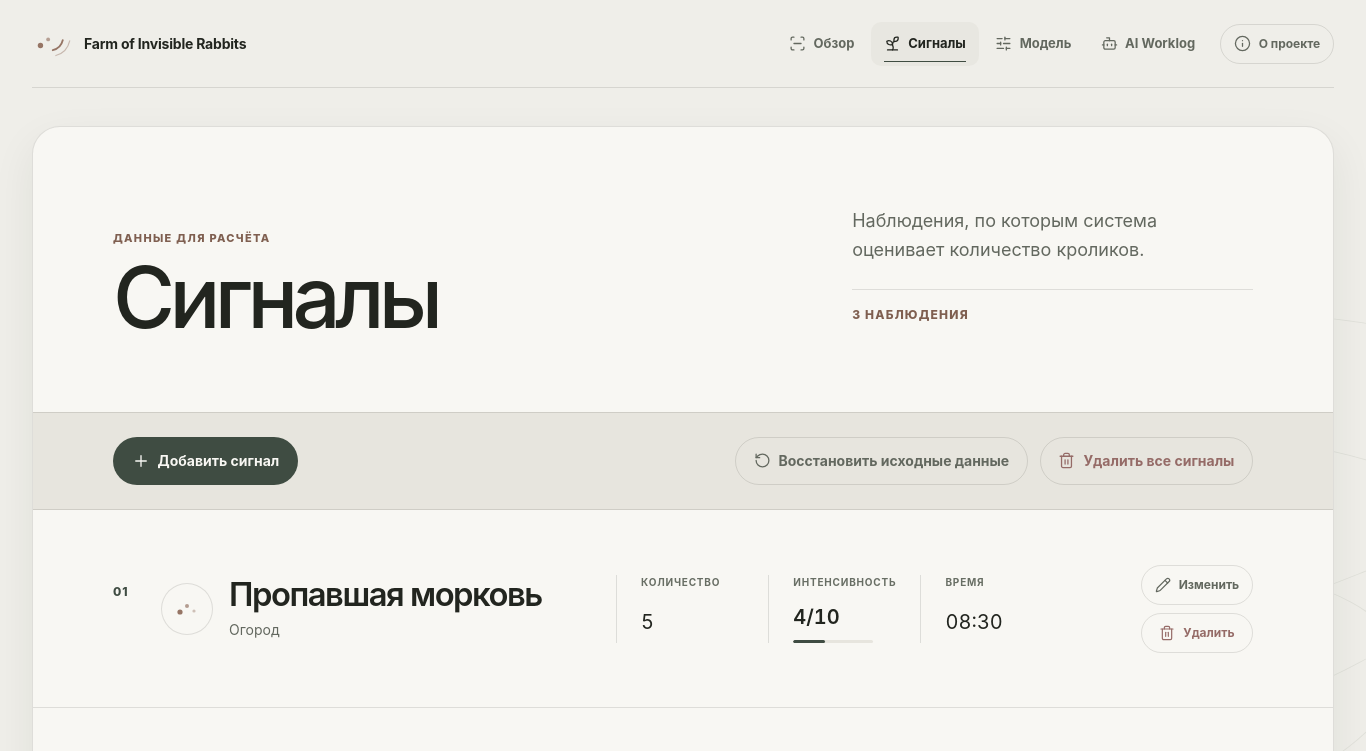
Test: SignalsSection › требует confirmation для delete all и переводит весь Overview в empty state
Click the button "Удалить все сигналы" at (1146, 461), box [1040,437,1253,485]
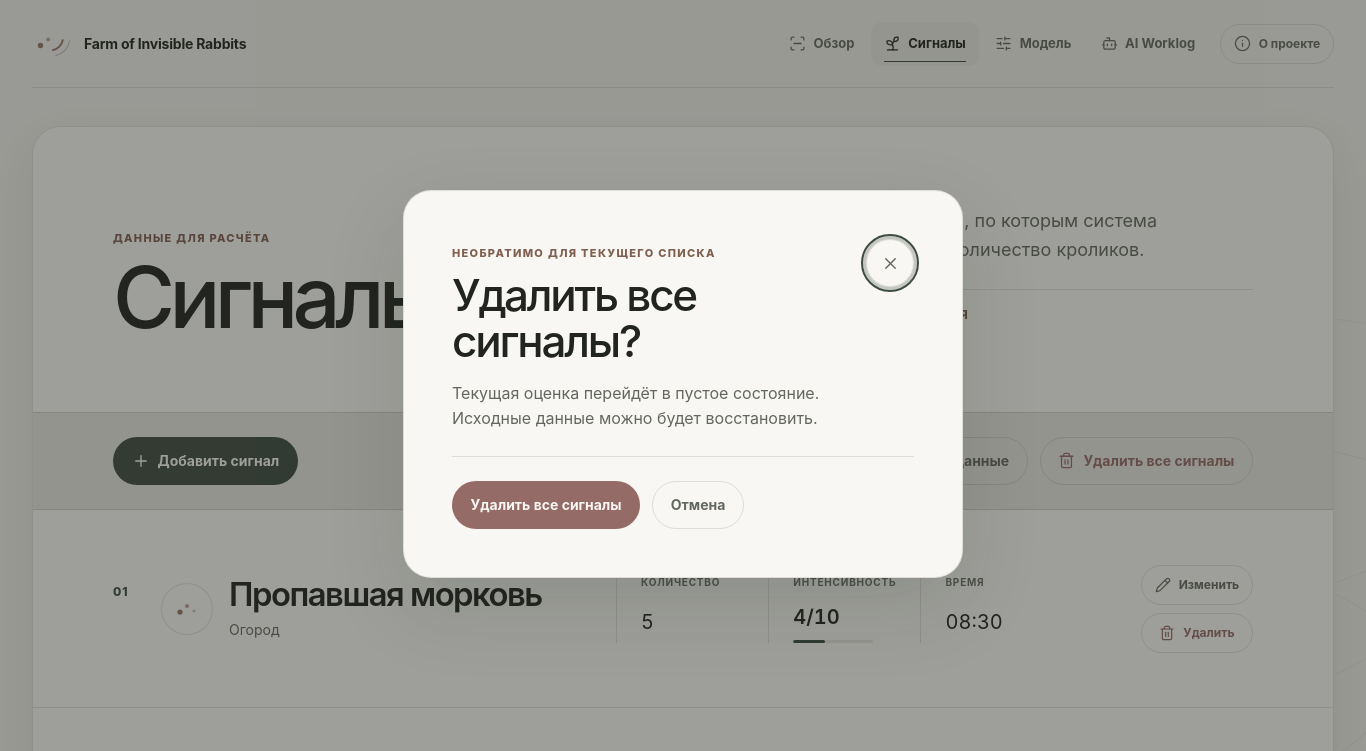
Click the button "Отмена" at (698, 505), box [652,481,744,529]
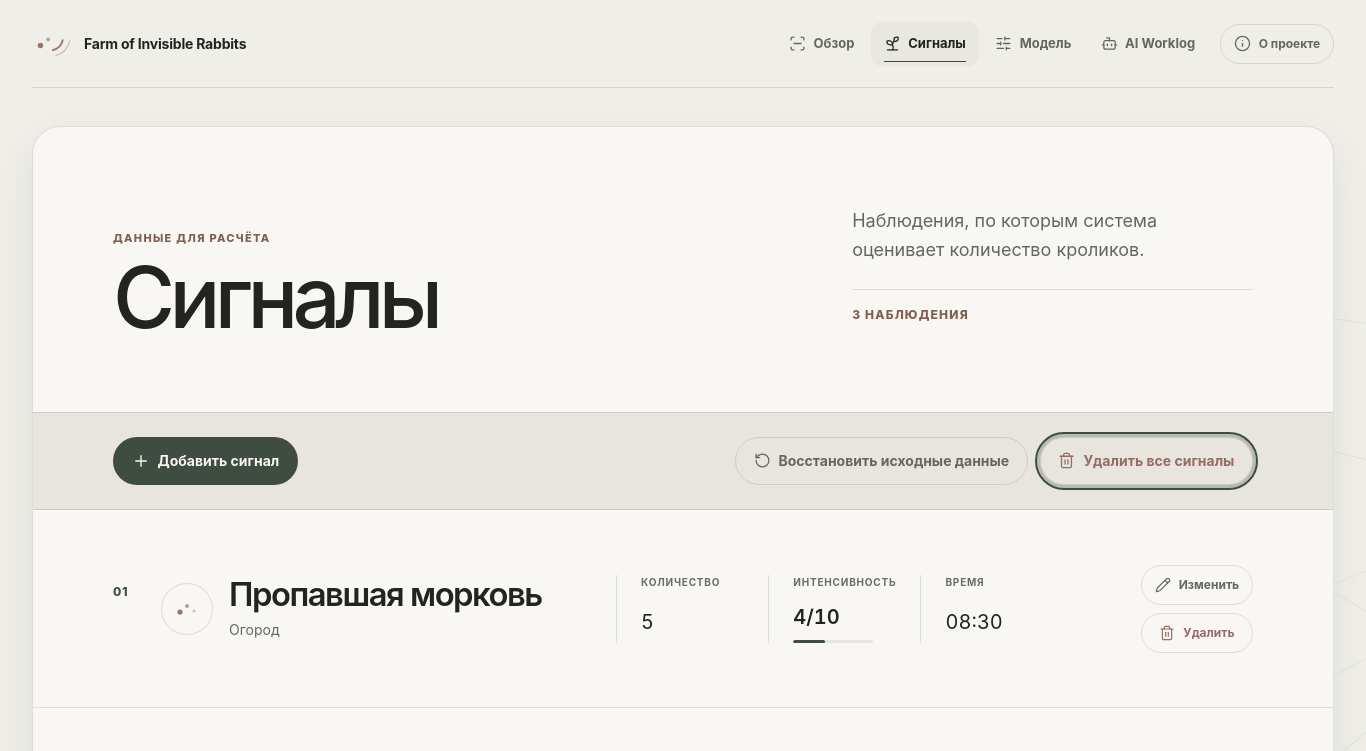
Check: the text "3 наблюдения" is shown, box [852,289,1253,324]
Check: the dialog "Удалить все сигналы?" is not shown
Click the button "Удалить все сигналы" at (1146, 461), box [1040,437,1253,485]
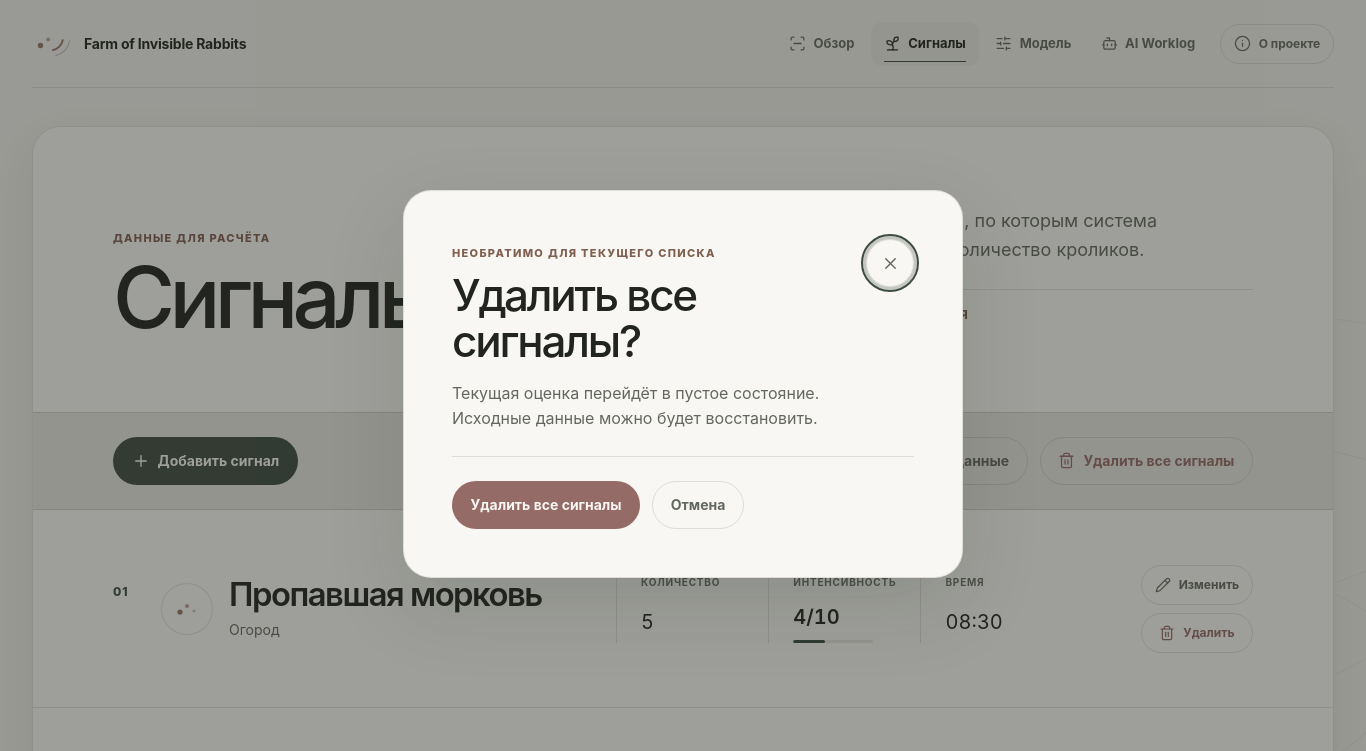
Click the button "Удалить все сигналы" at (546, 505), box [452,481,640,529]
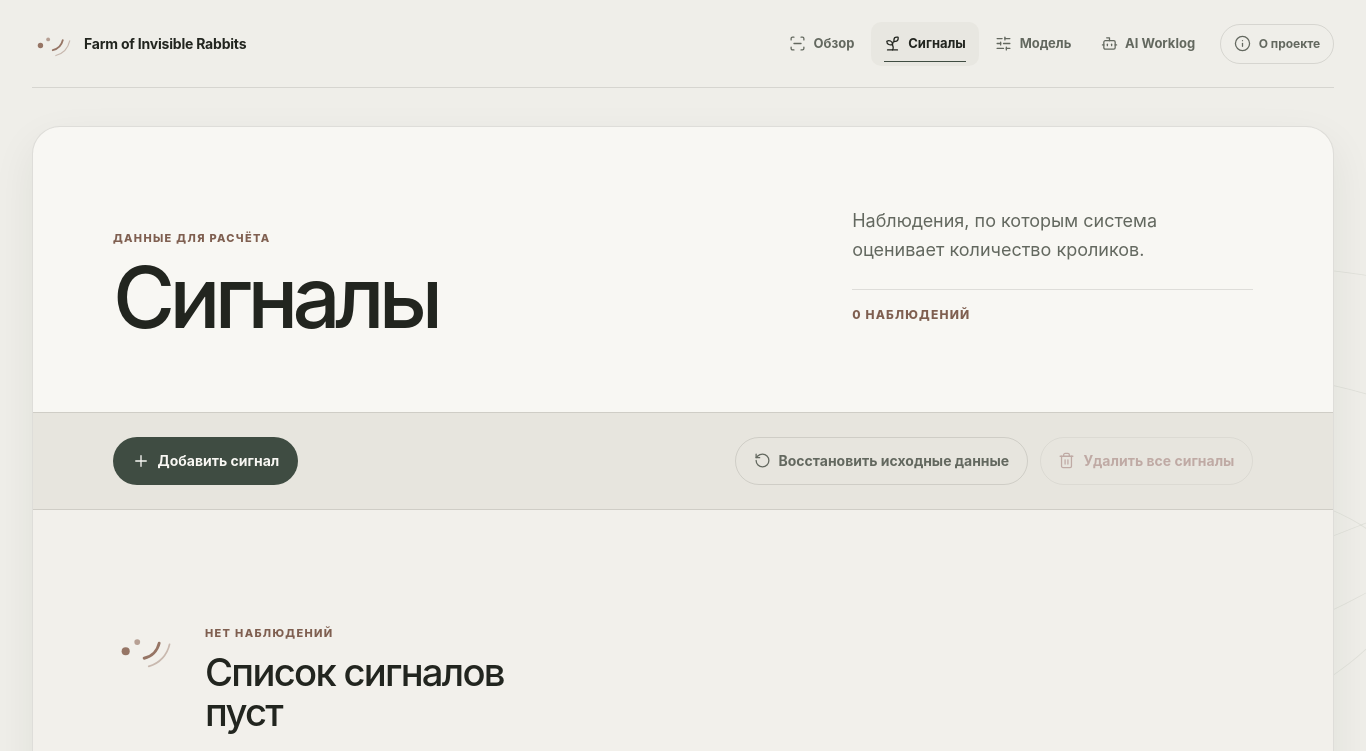
Check: the heading "Список сигналов пуст" is shown, box [205,653,550,733]
Click the link "Обзор" at (822, 44), box [777,22,867,66]
(page scrolled)
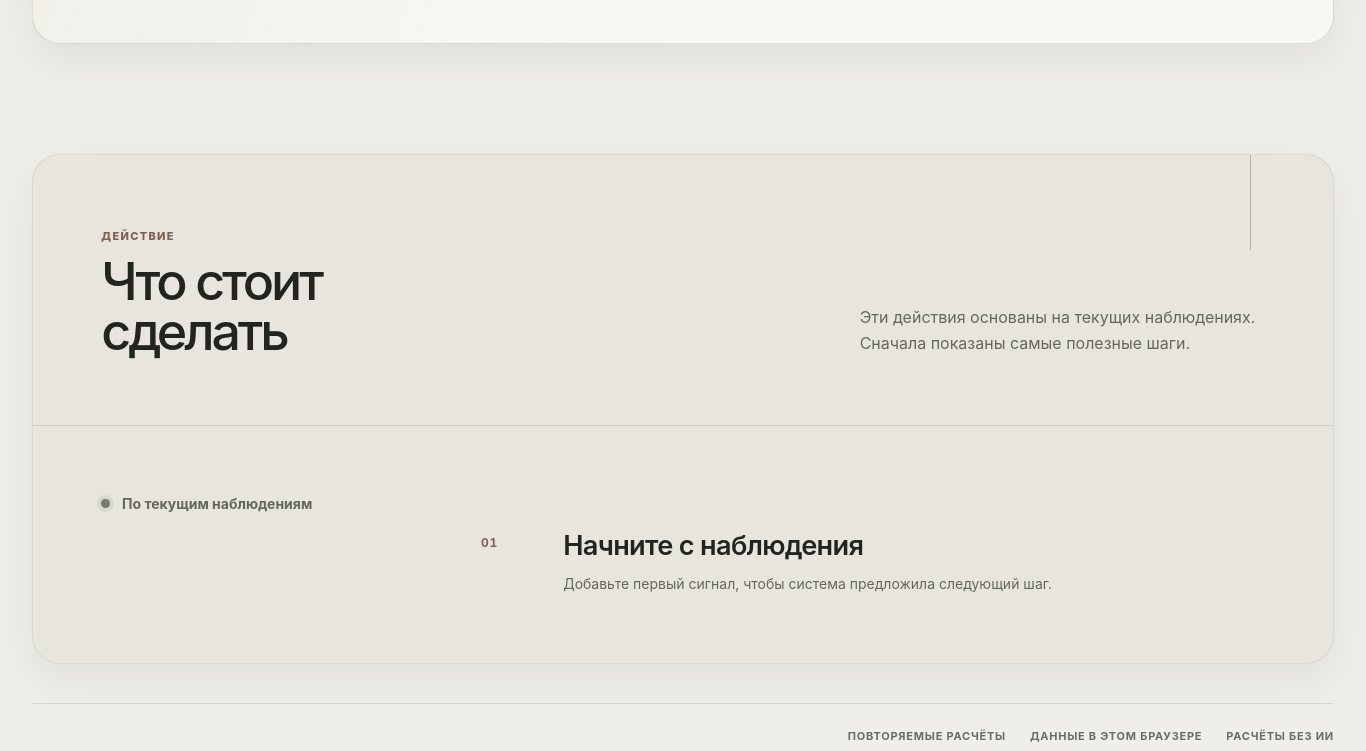
Check: the heading "Начните с наблюдения" is shown, box [563,529,863,562]
